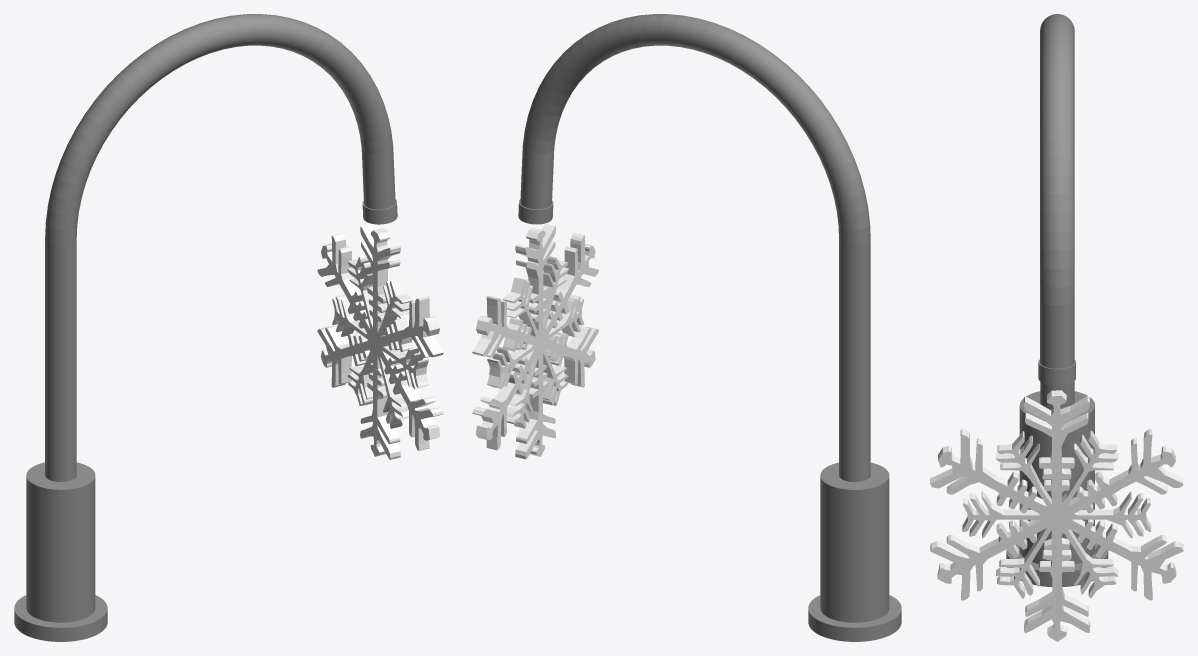
The model's file is temperature, cold.dae.
The picture shows the model from 3 angles, left to right: view 1: azimuth 30°, elevation 25°; view 2: azimuth 150°, elevation 25°; view 3: azimuth 270°, elevation 25°; orthographic projection. The views are drawn at different scales.
Visible parts, largest first — view 1: group_1 (×3), group_0; view 2: group_1 (×3), group_0; view 3: group_0, group_1 (×4).
Boxes of the visible parts, <box> form: group_1 (×3): <box>14,14,395,641</box>; group_0: <box>317,224,443,459</box>; group_1 (×3): <box>520,14,901,641</box>; group_0: <box>472,223,598,459</box>; group_0: <box>930,390,1183,641</box>; group_1 (×4): <box>1006,14,1108,586</box>.
Size of the model in its own units: 10.64 by 5.7 by 15.3.
2 materials, 2 textured.
